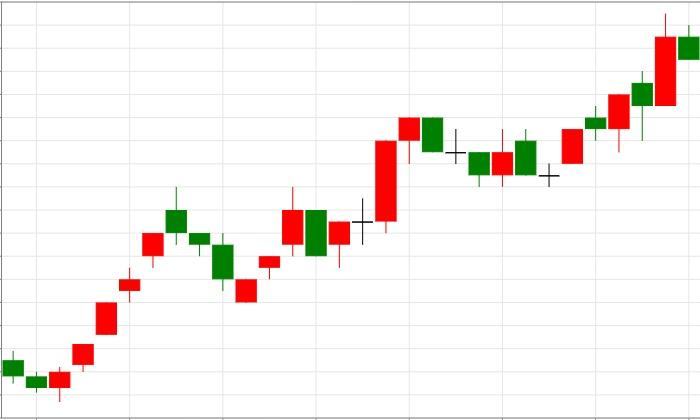three_black_crows_fall: (49, 186, 234, 402)
